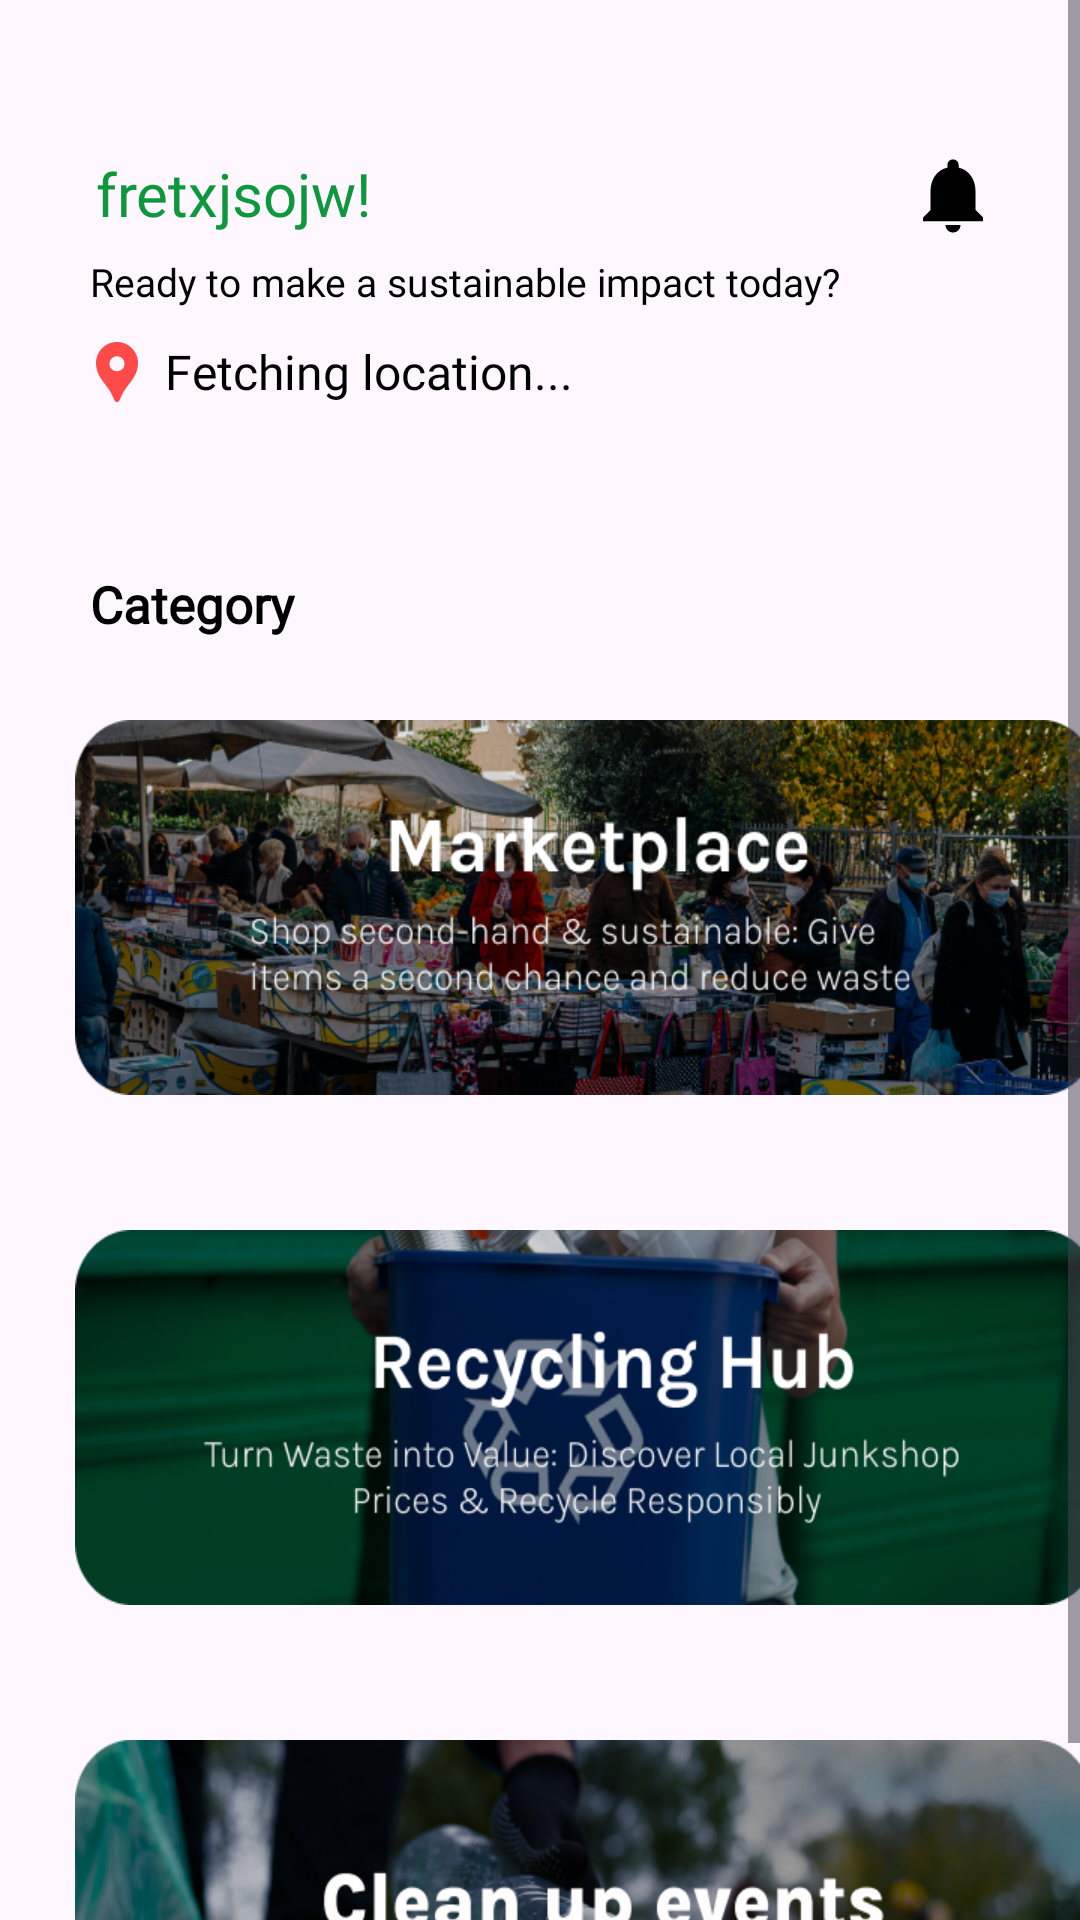

Icon bounding boxes for this 1080px x 1920px phone screenshot, format box=[x1, y1, x2, y2]:
notifications: box=[923, 159, 983, 233]
